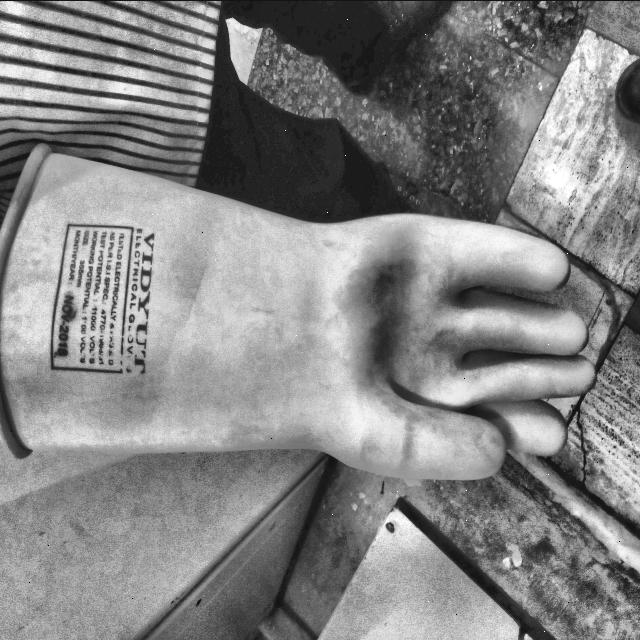gloved: (1, 140, 598, 504)
